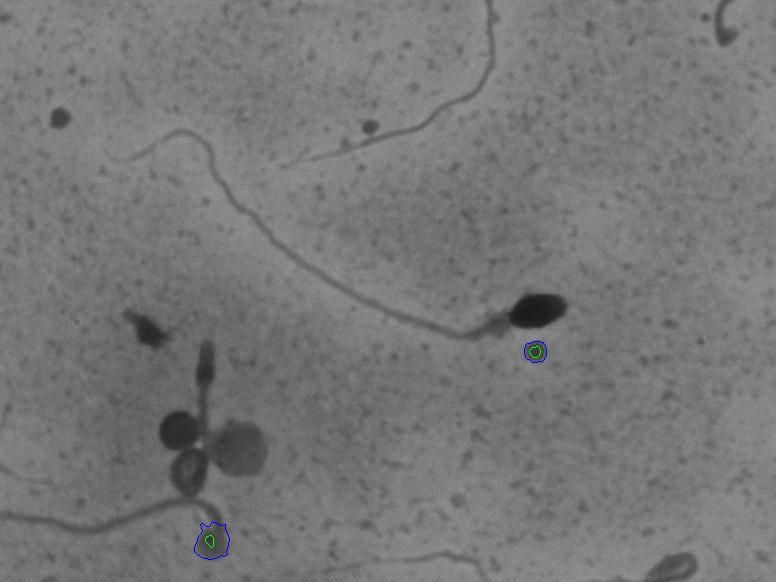Abnormal: (93, 109, 575, 358)
